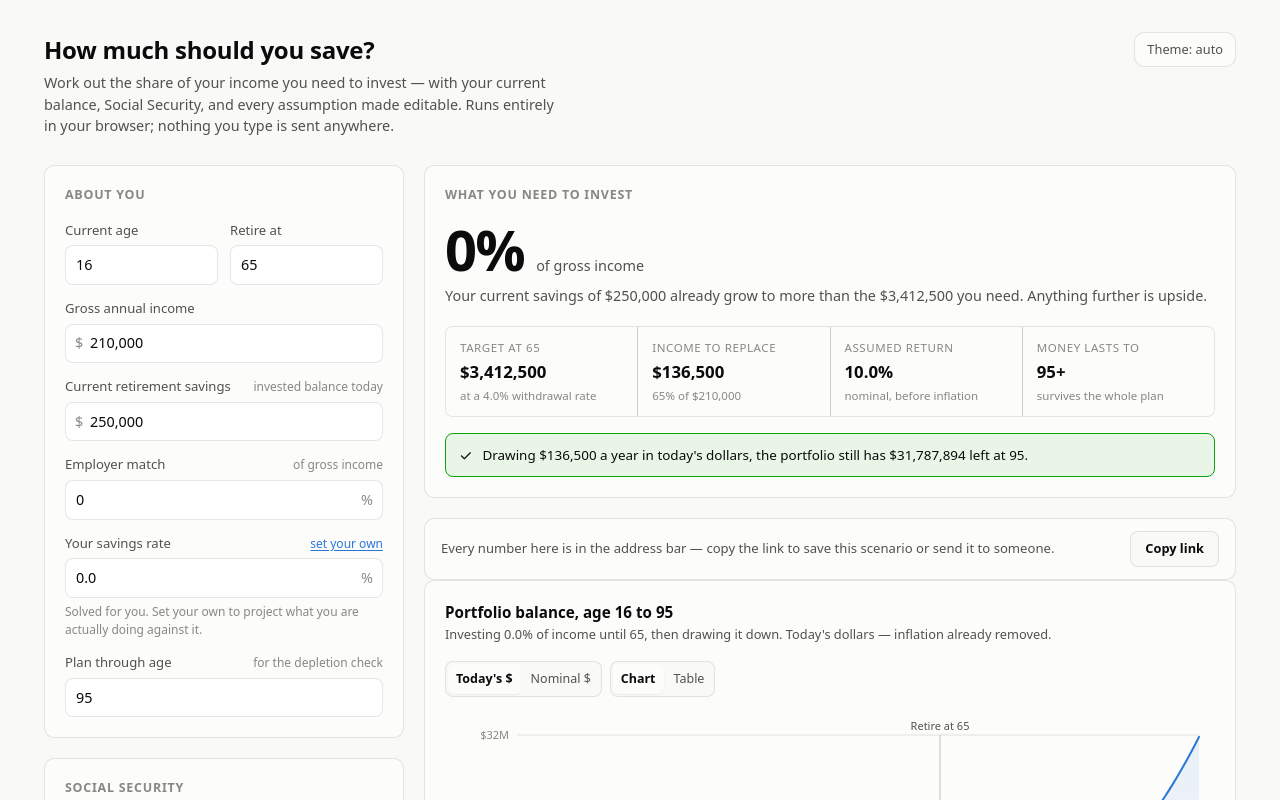
Scenario: currency formatting › formats progressively, not just at the end
Replace the text in the field labelled "Gross annual income" with "1" at (224, 343), box x1=65 y1=324 x2=383 y2=363
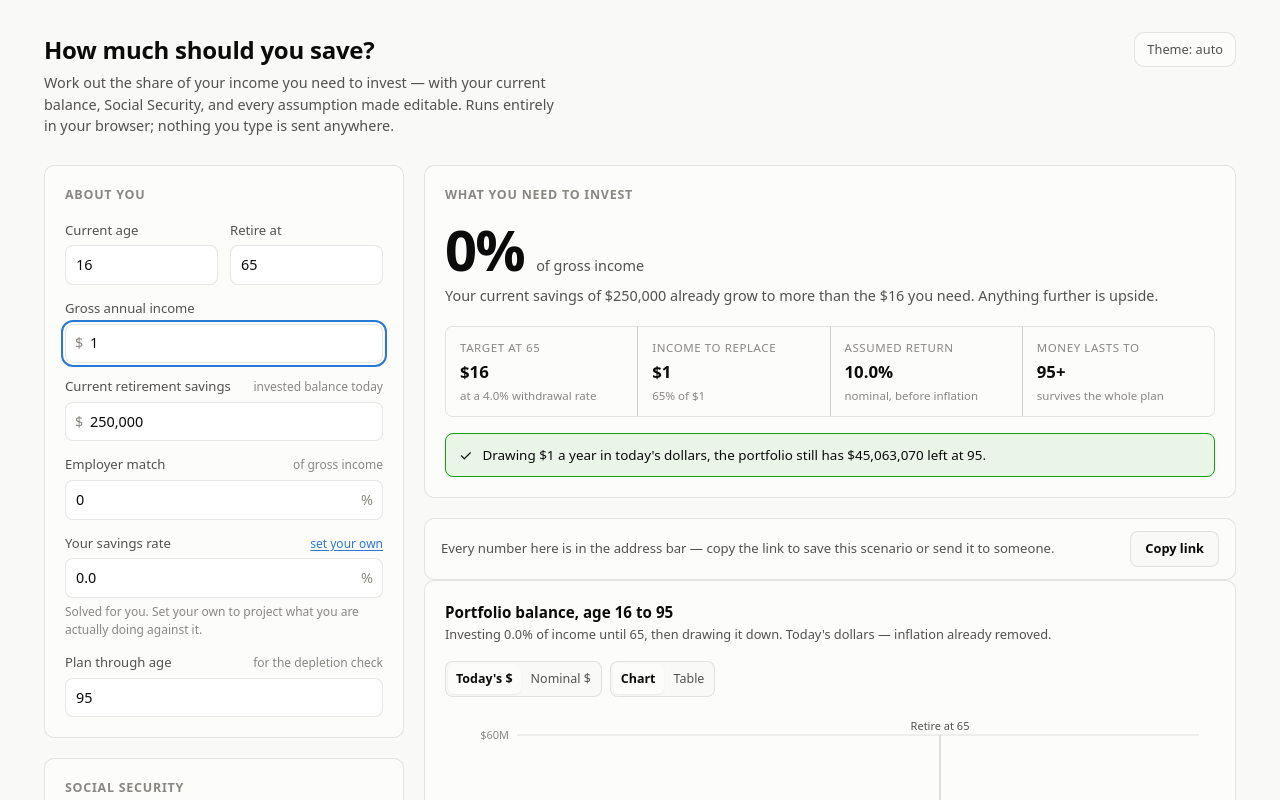
Type "0" into the field labelled "Gross annual income" at (224, 343), box x1=65 y1=324 x2=383 y2=363
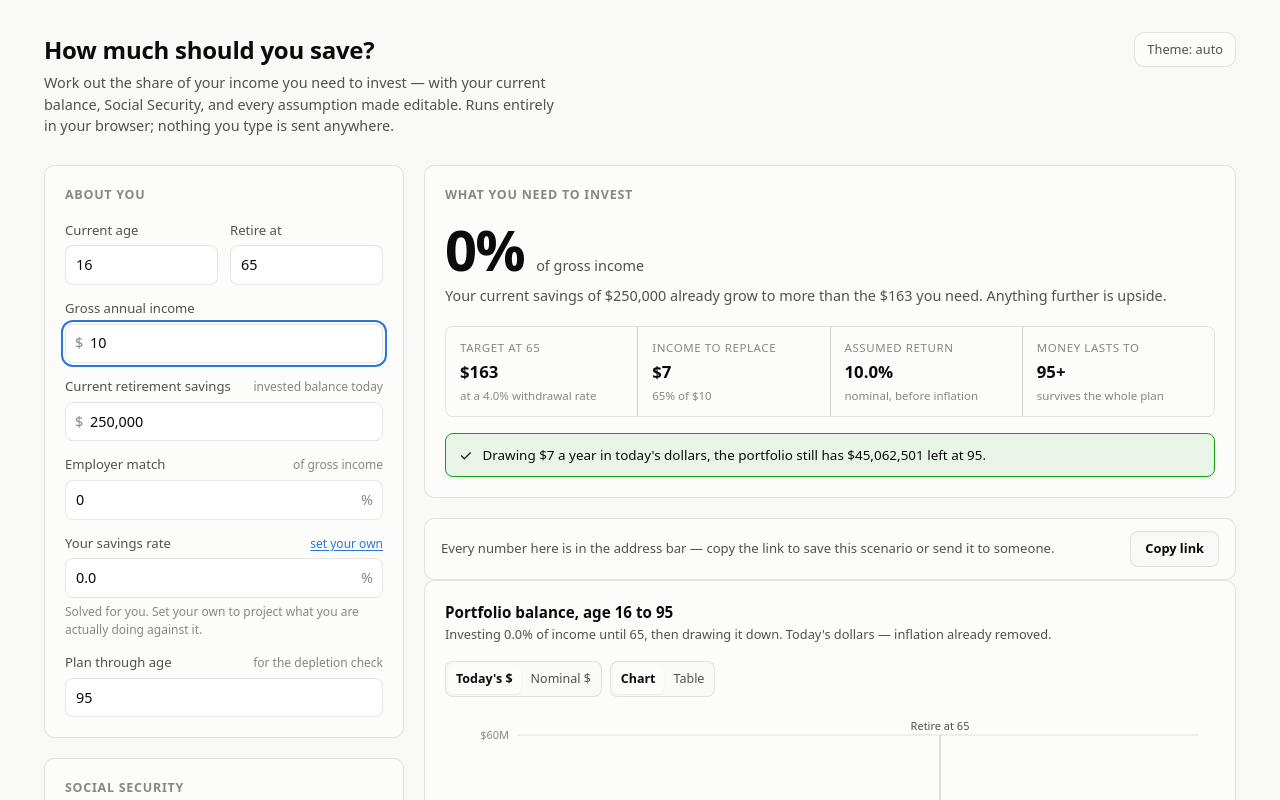
Expected: the field labelled "Gross annual income" holds "10"
Type "00" into the field labelled "Gross annual income" at (224, 343), box x1=65 y1=324 x2=383 y2=363
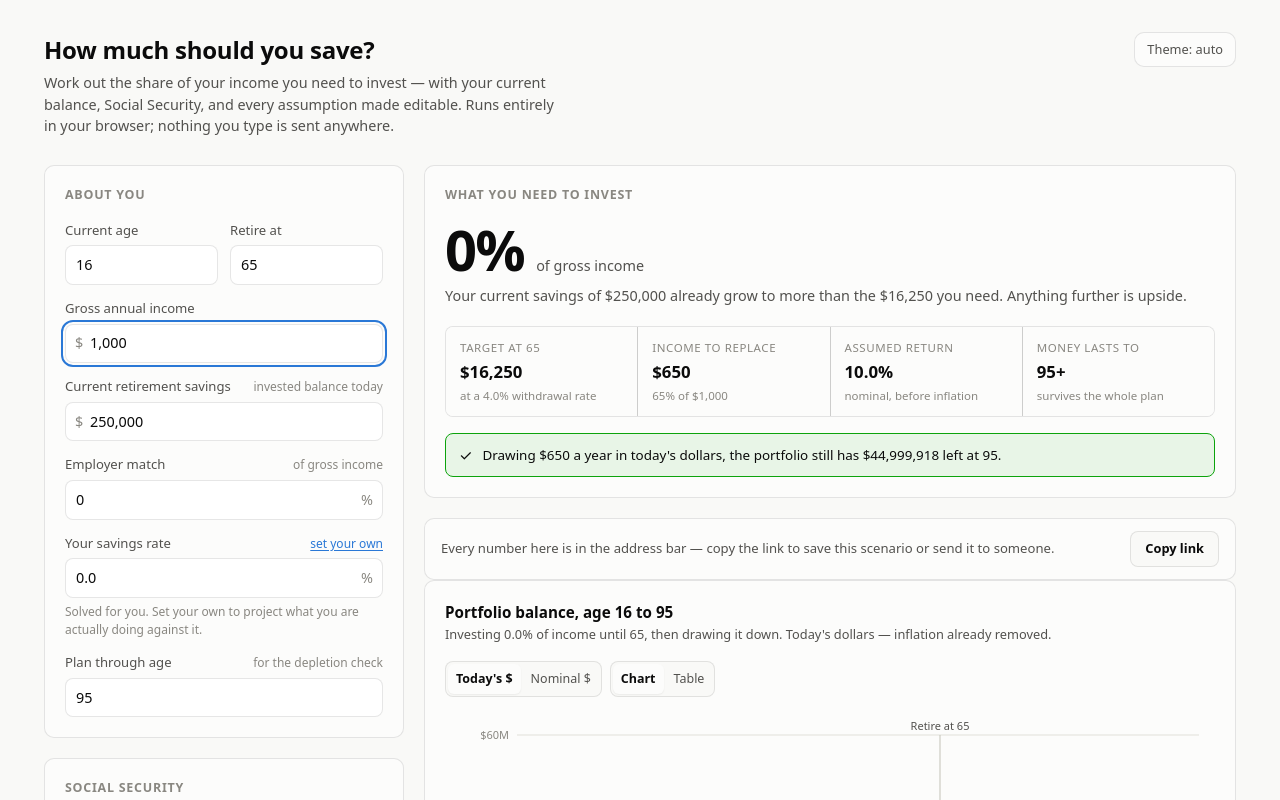
Expected: the field labelled "Gross annual income" holds "1,000"
Type "0" into the field labelled "Gross annual income" at (224, 343), box x1=65 y1=324 x2=383 y2=363
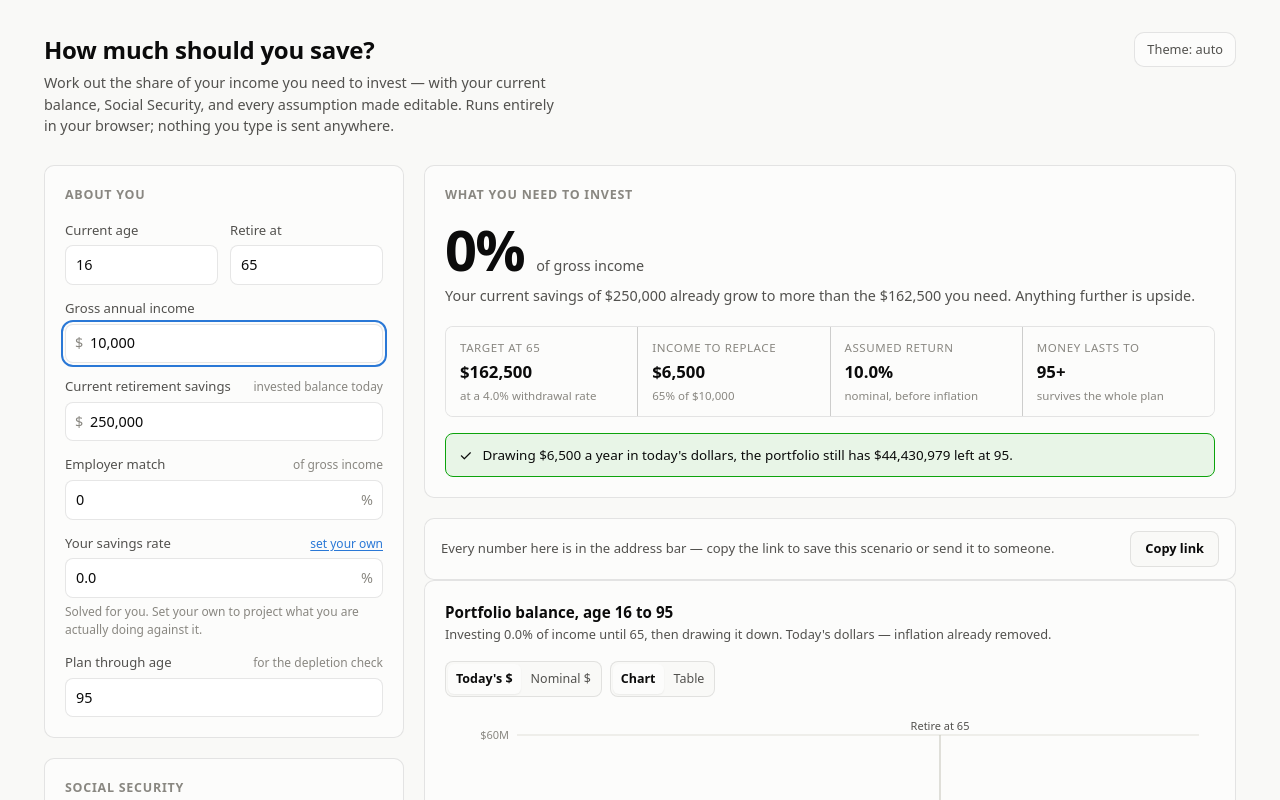
Expected: the field labelled "Gross annual income" holds "10,000", x1=65 y1=324 x2=383 y2=363
